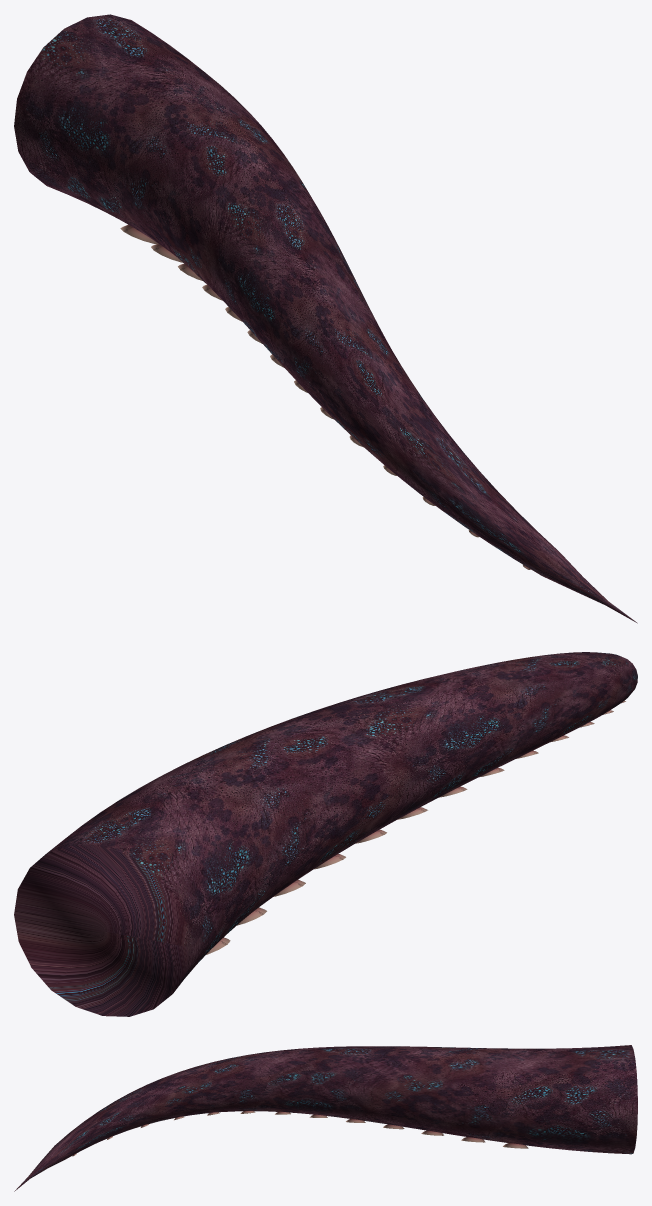
File: kraken_tentacle_variant_02.obj
The picture shows the model from 3 angles, top to bottom: view 1: azimuth 30°, elevation 25°; view 2: azimuth 150°, elevation 25°; view 3: azimuth 270°, elevation 25°; orthographic projection. The views are drawn at different scales.
Visible parts, largest first — view 1: Tentacle_Variant_02; view 2: Tentacle_Variant_02; view 3: Tentacle_Variant_02.
Boxes of the visible parts, x1,y1,x2,y2 form: Tentacle_Variant_02: (14,14,637,623); Tentacle_Variant_02: (14,652,637,1016); Tentacle_Variant_02: (14,1045,637,1191).
Size of the model in its own units: 2.24 by 2.54 by 10.66.
3 materials, 3 textured.
